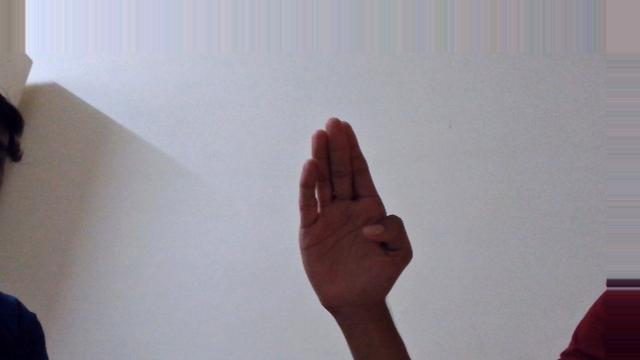Back: (299, 118, 413, 303)
